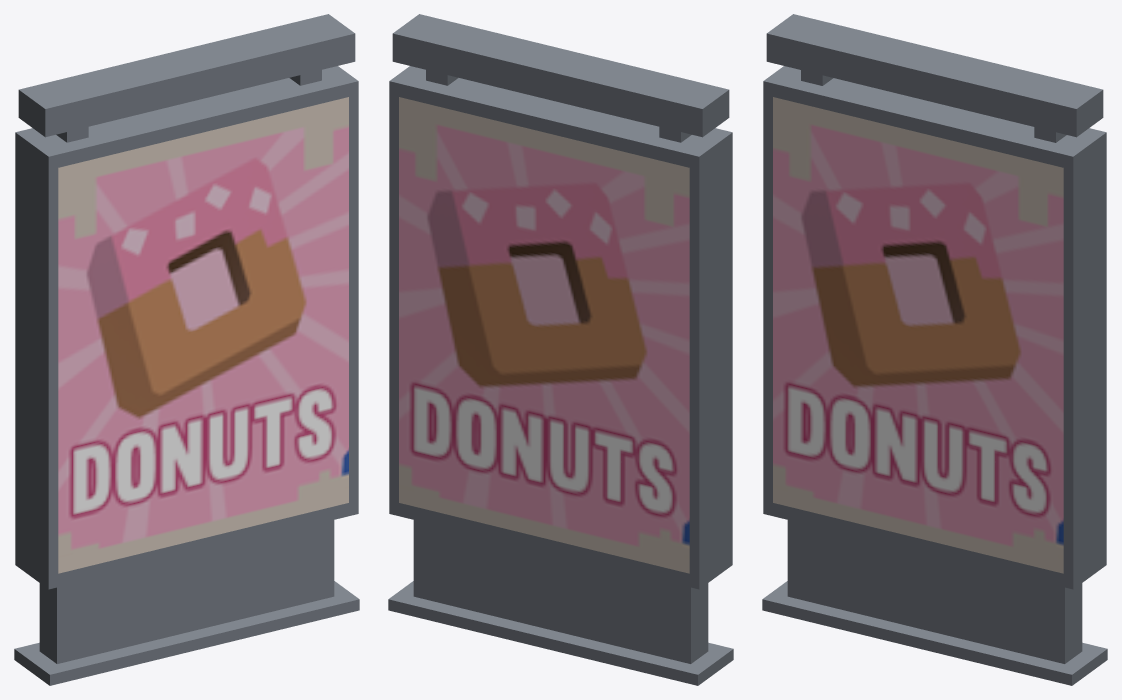
The model's file is SM_Billboard_Panel_05.fbx.
3 renders of one model, left to right at view 1: azimuth 30°, elevation 25°; view 2: azimuth 150°, elevation 25°; view 3: azimuth 330°, elevation 25°, orthographic.
Parts seen in each view (by area): view 1: SM_Billboard_Panel_05; view 2: SM_Billboard_Panel_05; view 3: SM_Billboard_Panel_05.
Part boxes in pixels (<box>): SM_Billboard_Panel_05: <box>14,14,359,685</box>; SM_Billboard_Panel_05: <box>388,14,733,685</box>; SM_Billboard_Panel_05: <box>762,14,1107,685</box>.
Bounding box in the file's own units: 2.2 × 3.89 × 0.4375.
